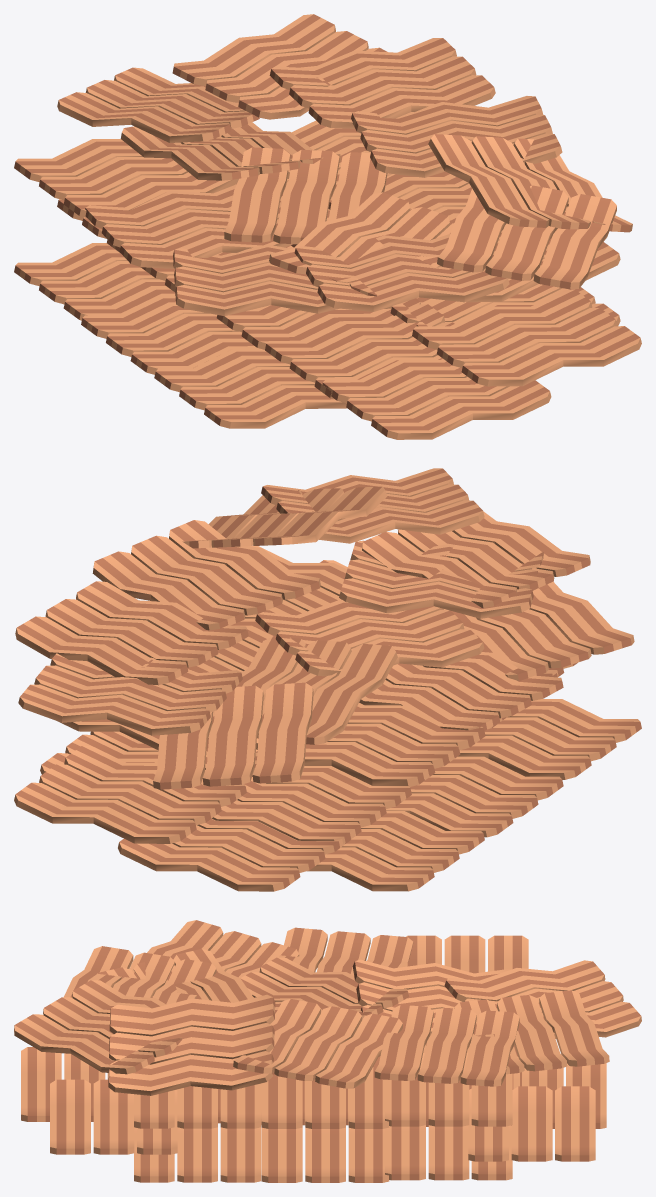
Rendered from bacon bin.fbx.
The picture shows the model from 3 angles, top to bottom: view 1: azimuth 30°, elevation 25°; view 2: azimuth 150°, elevation 25°; view 3: azimuth 270°, elevation 25°; orthographic projection. The views are drawn at different scales.
Parts seen in each view (by area): view 1: bacon.001; view 2: bacon.001; view 3: bacon.001.
Part boxes in pixels (x1=…): bacon.001: x1=14, y1=14, x2=641, y2=439; bacon.001: x1=14, y1=468, x2=641, y2=891; bacon.001: x1=14, y1=920, x2=641, y2=1182.
Bounding box in the file's own units: 136 × 53.71 × 190.
